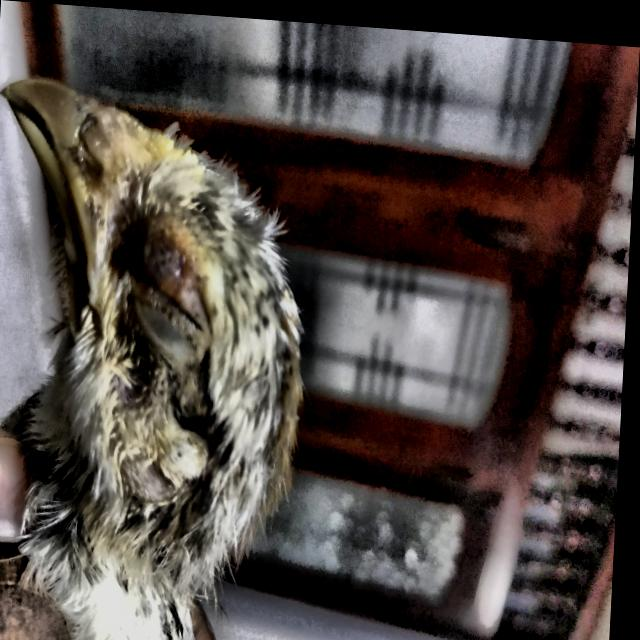Coryza: (0, 33, 320, 588)
